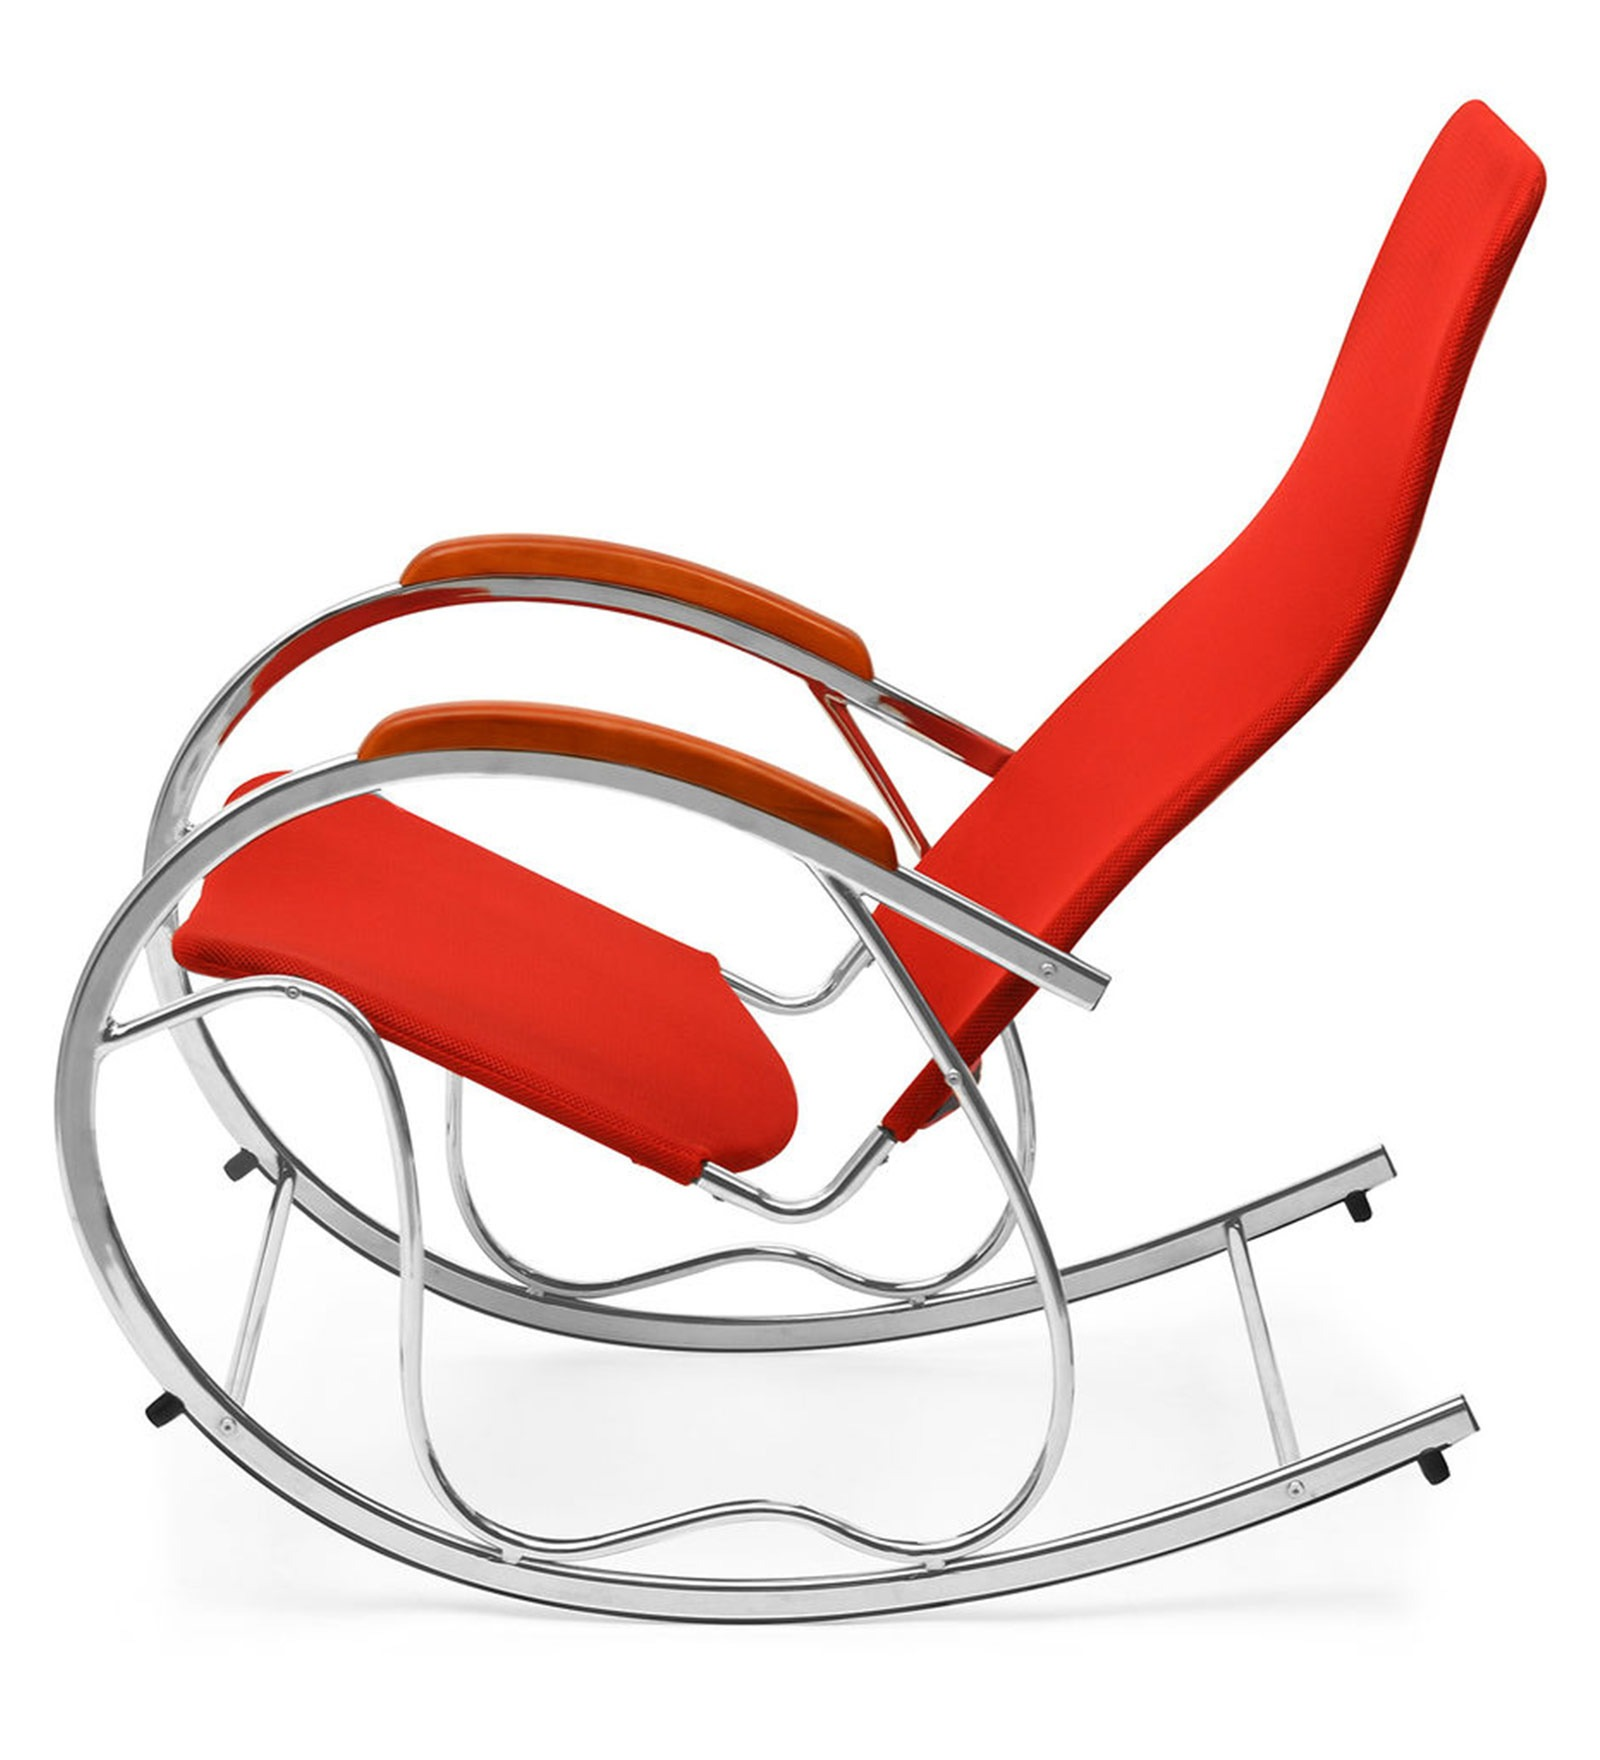Dylan Rocking Chair in Red Colour by Nilkamal: (38, 44, 1559, 1656)
